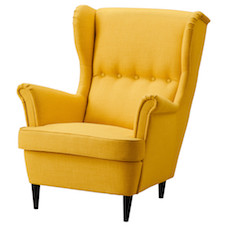chair: (7, 0, 214, 210)
